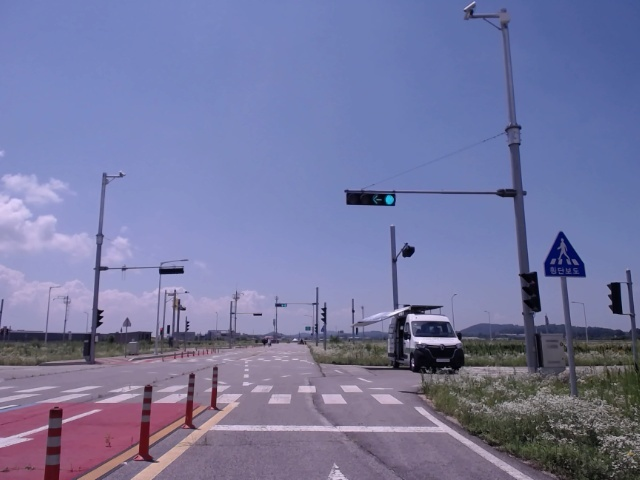all_green_4: (345, 190, 395, 210)
